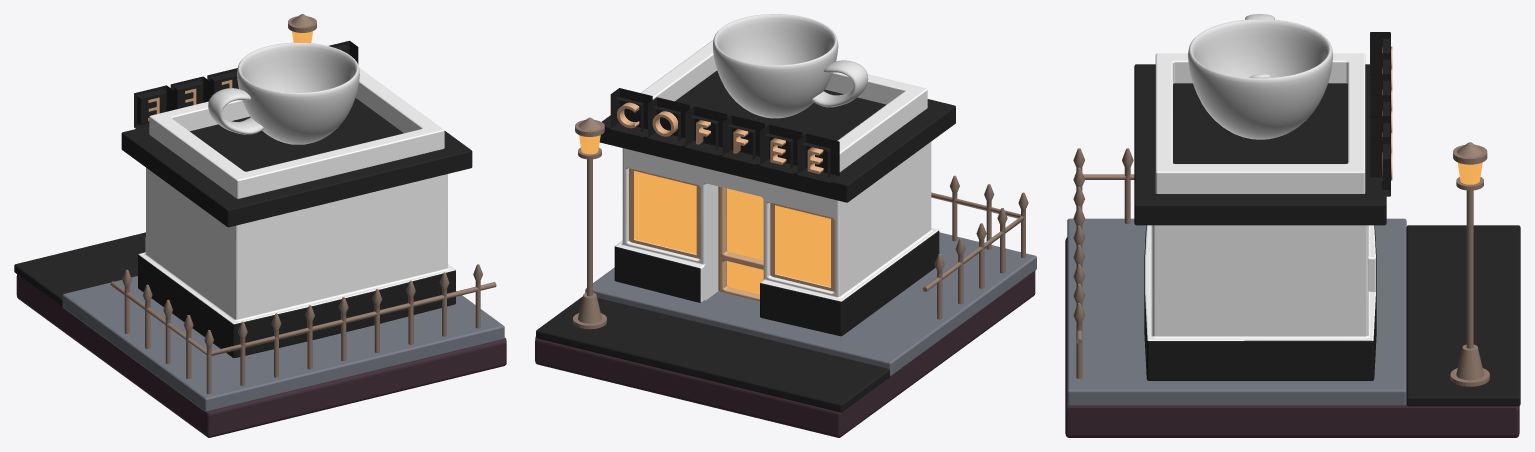
The model's file is shop-coffee-b.glb.
3 renders of one model, left to right at view 1: azimuth 30°, elevation 25°; view 2: azimuth 150°, elevation 25°; view 3: azimuth 270°, elevation 25°, orthographic. The views are drawn at different scales.
Visible parts, largest first — view 1: Plane.004_21, Plane.002_2, Plane.005_7, Plane_0, Plane.006_8, Circle_3, Plane.010_23, Plane.001_1, Plane.009_22, Circle.001_4, Plane.015_20, Plane.014_18 (+2 smaller); view 2: Plane.004_21, Plane.001_1, Plane.002_2, Plane.005_7, Plane_0, Circle_3, Plane.006_8, Plane.010_23, Circle.002_24, Plane.007_9, Plane.008_10, Plane.015_20 (+7 smaller); view 3: Plane.004_21, Plane.002_2, Plane.005_7, Plane.001_1, Plane_0, Circle_3, Plane.006_8, Circle.002_24, Plane.010_23, Plane.003_6, Plane.011_12, Plane.012_14 (+3 smaller).
Boxes of the visible parts, <box> form: Plane.004_21: <box>138,168,455,357</box>; Plane.002_2: <box>62,276,504,411</box>; Plane.005_7: <box>121,98,472,227</box>; Plane_0: <box>16,274,506,437</box>; Plane.006_8: <box>149,68,444,198</box>; Circle_3: <box>237,42,359,144</box>; Plane.010_23: <box>122,264,482,393</box>; Plane.001_1: <box>14,232,145,306</box>; Plane.009_22: <box>110,281,496,355</box>; Circle.001_4: <box>208,88,263,134</box>; Plane.015_20: <box>134,85,175,128</box>; Plane.014_18: <box>170,76,211,109</box>; Plane.004_21: <box>614,142,939,336</box>; Plane.001_1: <box>536,296,889,412</box>; Plane.002_2: <box>585,232,1036,376</box>; Plane.005_7: <box>599,70,955,202</box>; Plane_0: <box>535,271,1035,437</box>; Circle_3: <box>713,14,838,118</box>; Plane.006_8: <box>641,40,927,171</box>; Plane.010_23: <box>934,175,1028,319</box>; Circle.002_24: <box>573,117,606,329</box>; Plane.007_9: <box>629,168,834,291</box>; Plane.008_10: <box>718,186,763,301</box>; Plane.015_20: <box>797,133,839,182</box>; Plane.004_21: <box>1144,225,1376,380</box>; Plane.002_2: <box>1067,218,1406,406</box>; Plane.005_7: <box>1134,64,1386,225</box>; Plane.001_1: <box>1406,225,1520,406</box>; Plane_0: <box>1065,237,1519,437</box>; Circle_3: <box>1188,19,1332,139</box>; Plane.006_8: <box>1155,53,1365,193</box>; Circle.002_24: <box>1450,142,1489,386</box>; Plane.010_23: <box>1073,148,1133,378</box>; Plane.003_6: <box>1370,137,1390,196</box>; Plane.011_12: <box>1370,116,1390,137</box>; Plane.012_14: <box>1370,95,1390,116</box>.
Size of the model in its own units: 8.05 by 6.86 by 8.91.
